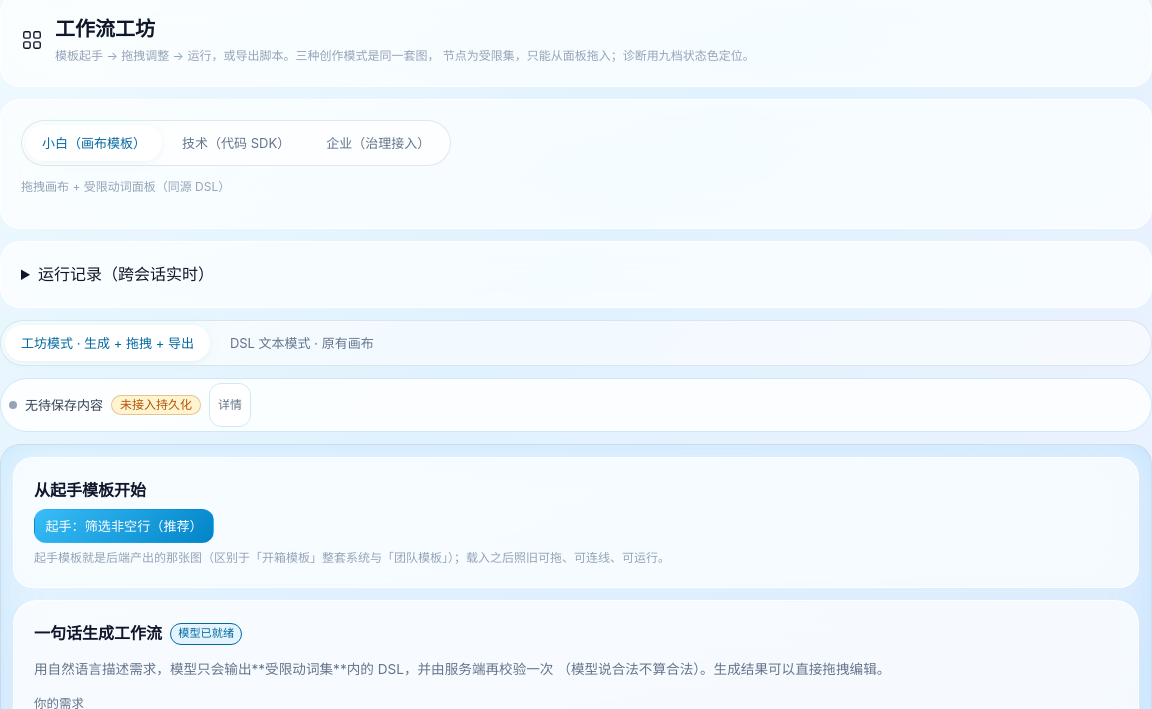
Test: DslCanvasPage 工作流工坊页签接线 › 生成失败（503）时画布保持空白，不塞任何兜底 DSL
Expected: the text "模型已就绪" is shown, [170,622,242,645]
Click the tab with test id "mode-tab-technical". click: (236, 143)
box: [166,125,306,161]
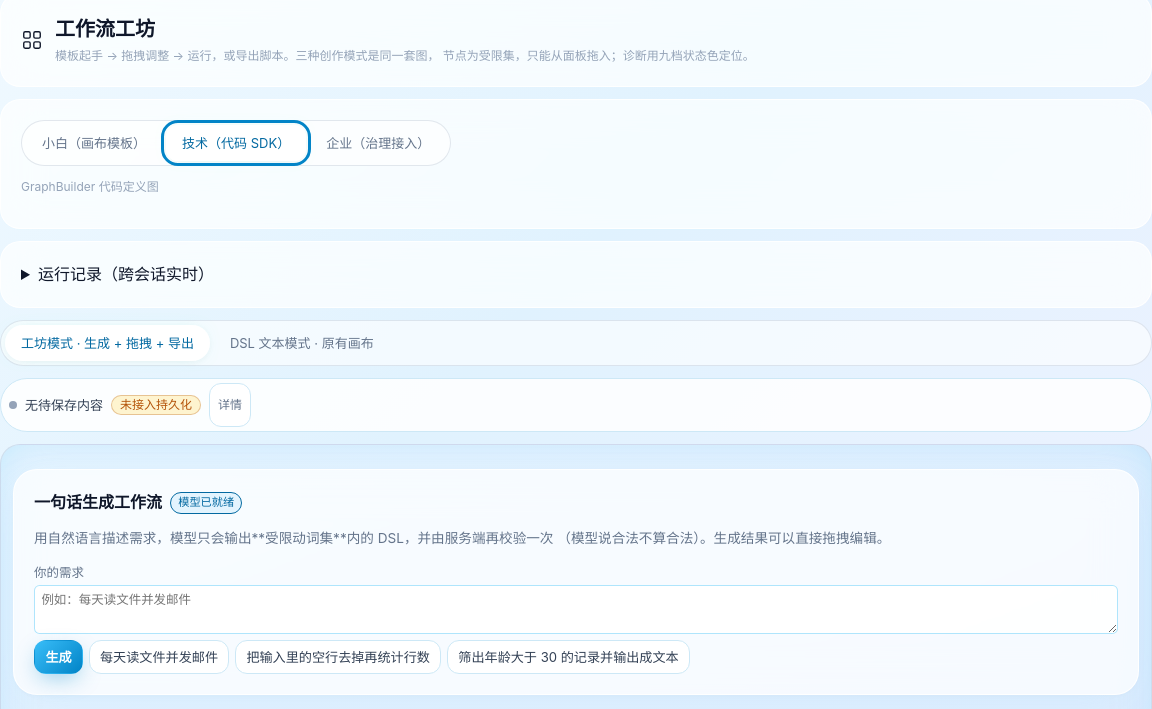
Type "每天读文件并发邮件" into the text box with test id "flow-generate-prompt". click: (576, 610)
box: [34,586,1118,634]
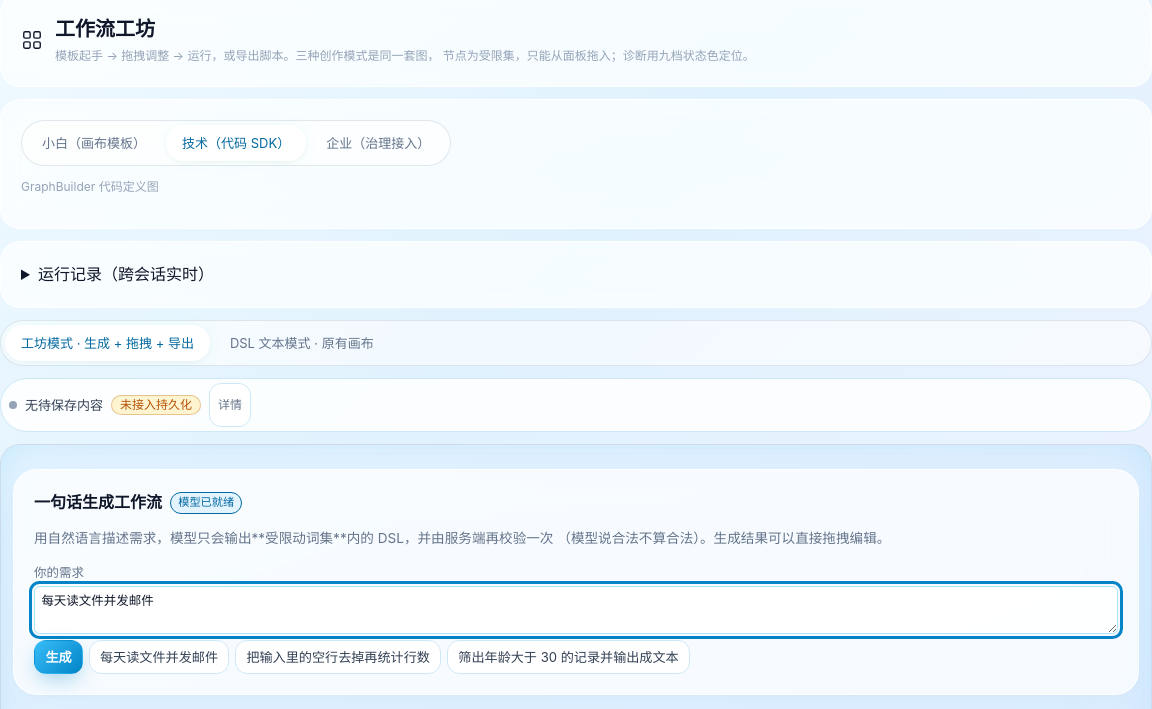
Click the button with test id "flow-generate-run". click: (58, 658)
box: [34,641,83,675]
(page scrolled)
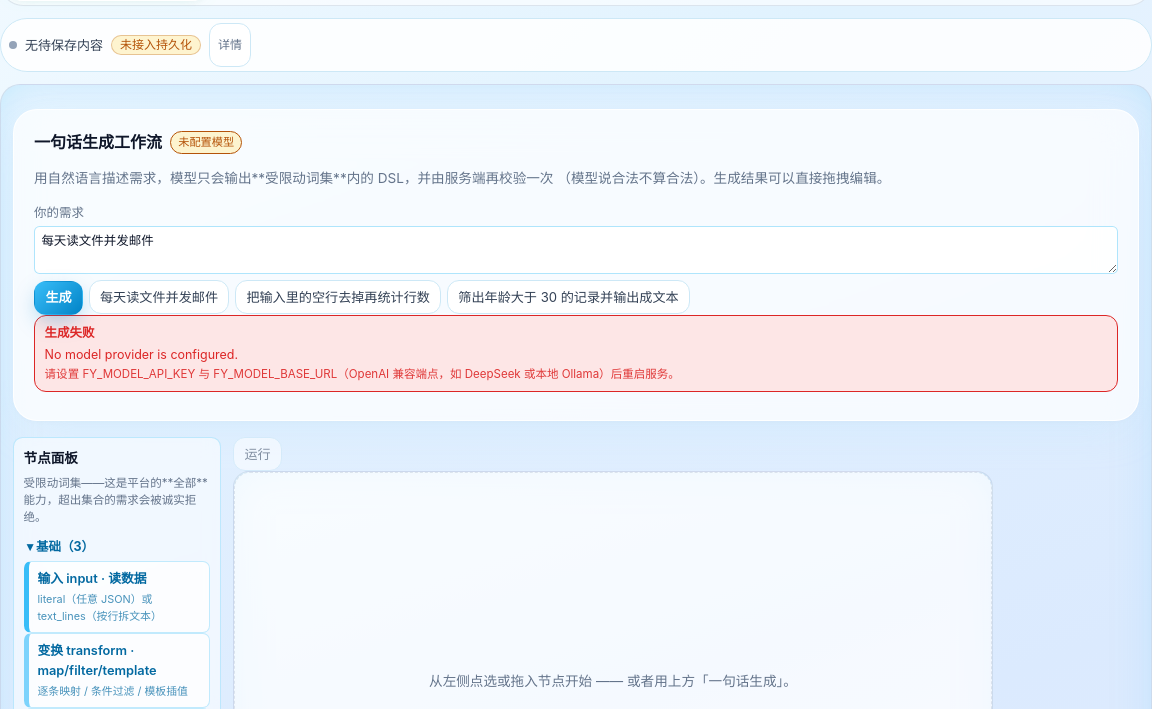
Result: the message with test id "flow-generate-error" is shown at [34,315,1118,392]
